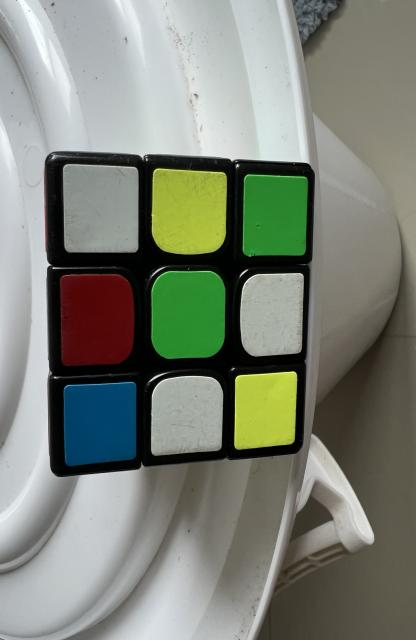Blue: (64, 382, 136, 466)
Green: (152, 271, 225, 359), (243, 175, 308, 256)
Red: (60, 274, 134, 366)
White: (63, 164, 139, 252), (152, 376, 223, 456), (240, 272, 304, 356)
Yellow: (152, 169, 228, 255), (234, 371, 297, 450)
